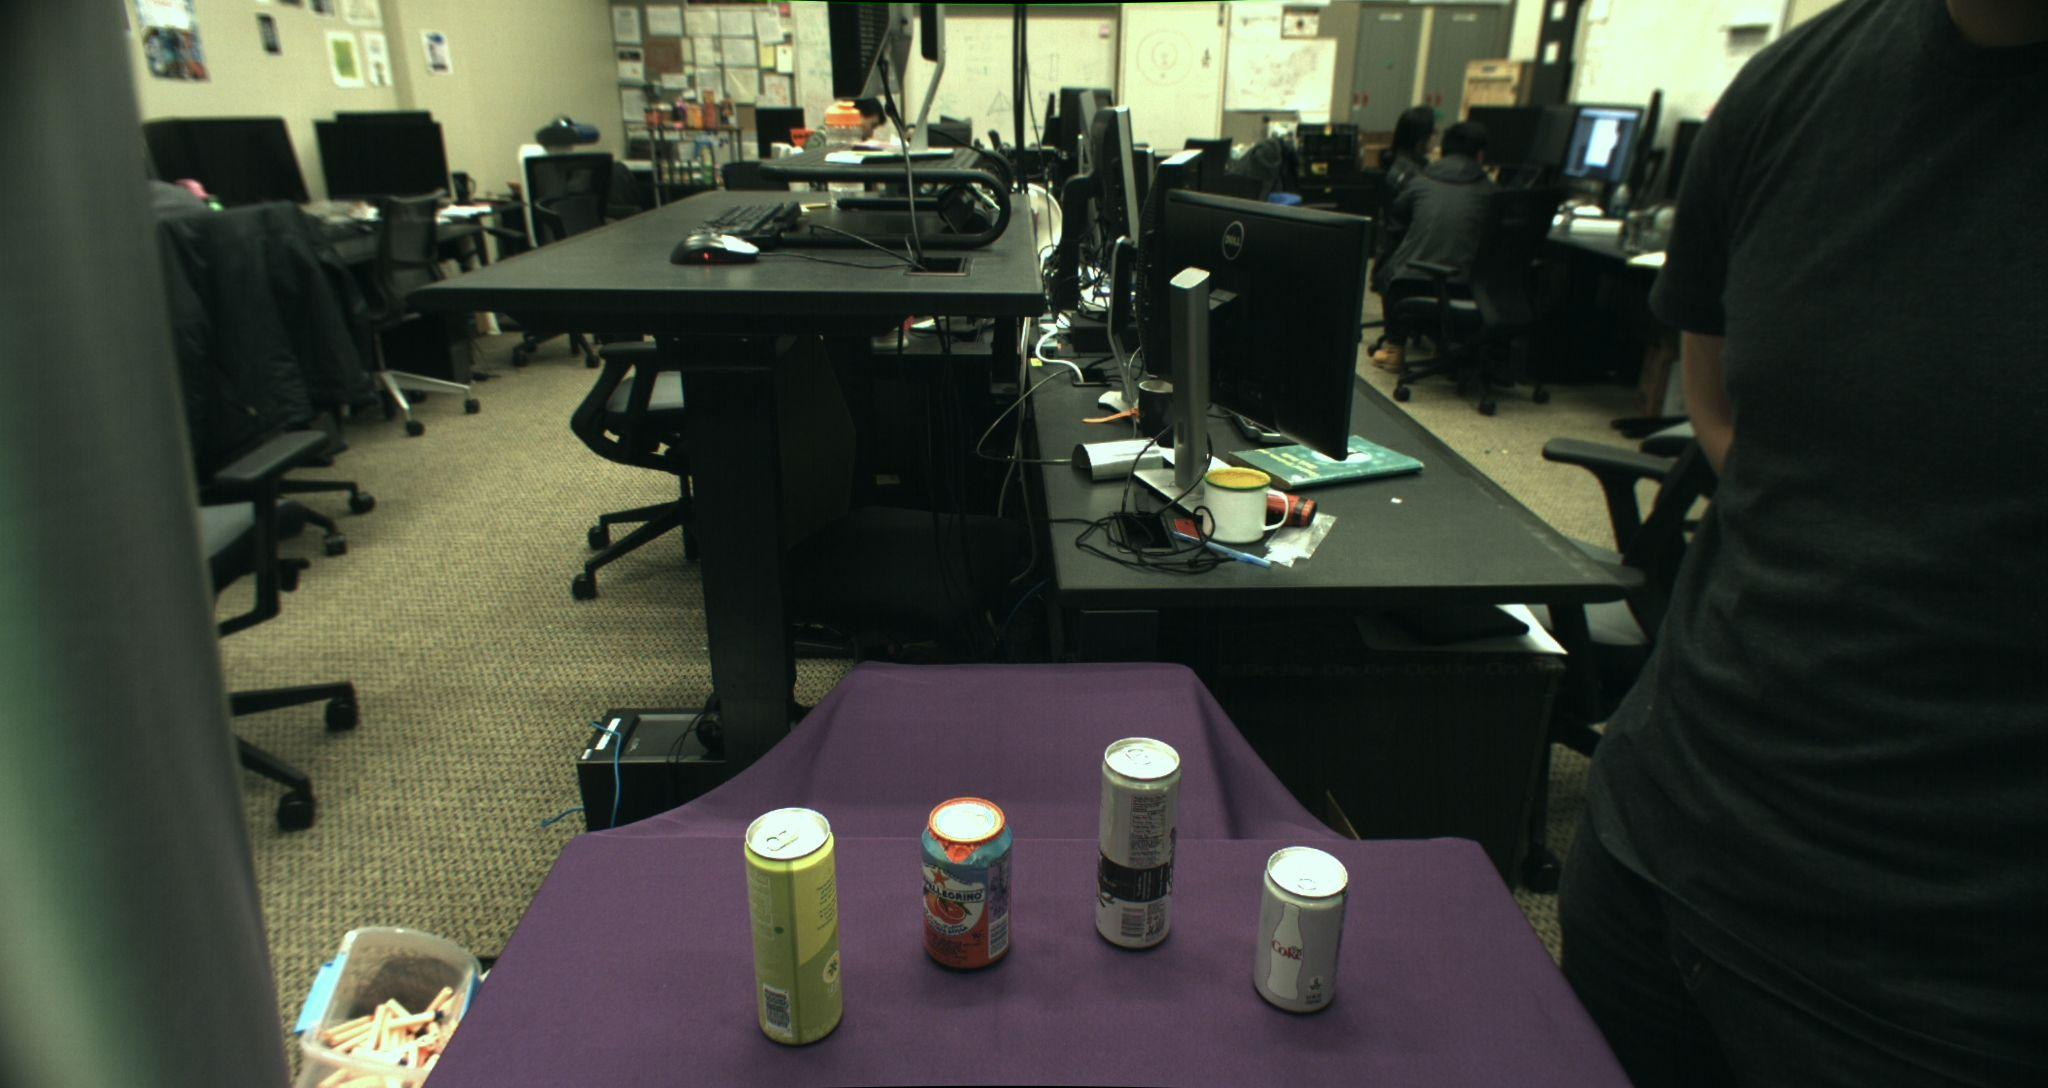can_diet_coke_small: (1252, 844, 1348, 1013)
can_dry_sparkling_vanilla_bean: (1094, 736, 1180, 948)
can_izze_fusions_lemon_lime: (744, 806, 842, 1045)
can_sanpellegrino_blood_orange: (918, 797, 1013, 970)
